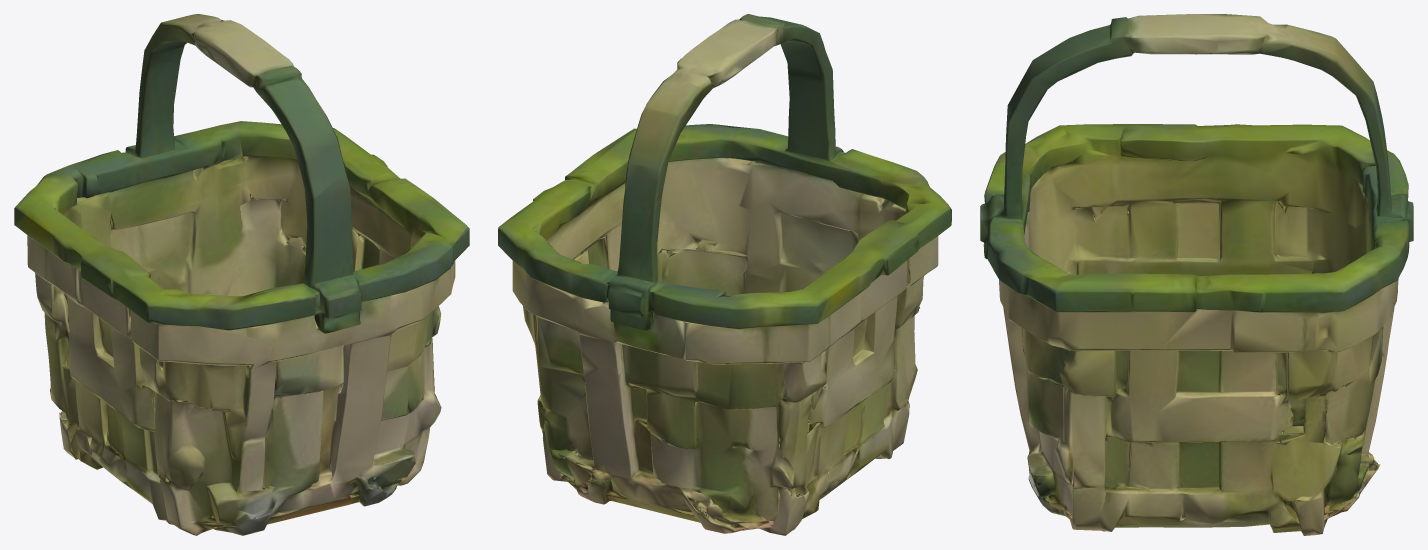
The model's file is basket.glb.
3 views of the same model, side by side, from view 1: azimuth 30°, elevation 25°; view 2: azimuth 150°, elevation 25°; view 3: azimuth 270°, elevation 25° (orthographic). The views are drawn at different scales.
Parts seen in each view (by area): view 1: tripo_node_0042a6c7-ad35-4781-950b-9e320442d075; view 2: tripo_node_0042a6c7-ad35-4781-950b-9e320442d075; view 3: tripo_node_0042a6c7-ad35-4781-950b-9e320442d075.
Boxes of the visible parts, x1,y1,x2,y2 form: tripo_node_0042a6c7-ad35-4781-950b-9e320442d075: (14,14,469,535); tripo_node_0042a6c7-ad35-4781-950b-9e320442d075: (498,14,951,535); tripo_node_0042a6c7-ad35-4781-950b-9e320442d075: (980,14,1413,535).
Bounding box in the file's own units: 0.7992 × 1 × 0.8634.
Materials: 1 (1 with a texture image).
